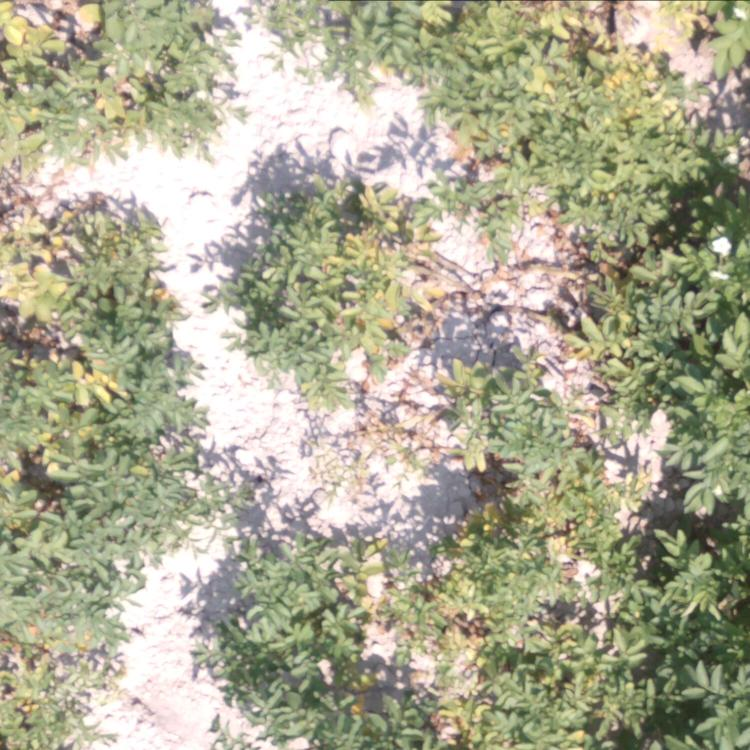healthy: (639, 305, 746, 529), (221, 543, 335, 736), (639, 546, 750, 743), (633, 167, 749, 300), (1, 494, 181, 574), (265, 1, 432, 79), (676, 107, 750, 166)
stressed: (340, 486, 640, 750), (216, 185, 445, 369), (428, 1, 671, 165), (1, 1, 231, 157), (364, 376, 597, 481), (1, 577, 129, 745), (1, 319, 199, 422), (1, 196, 164, 320), (1, 425, 200, 495), (517, 254, 630, 370), (449, 170, 609, 244), (291, 367, 366, 428), (671, 4, 750, 53), (1, 154, 65, 196)
